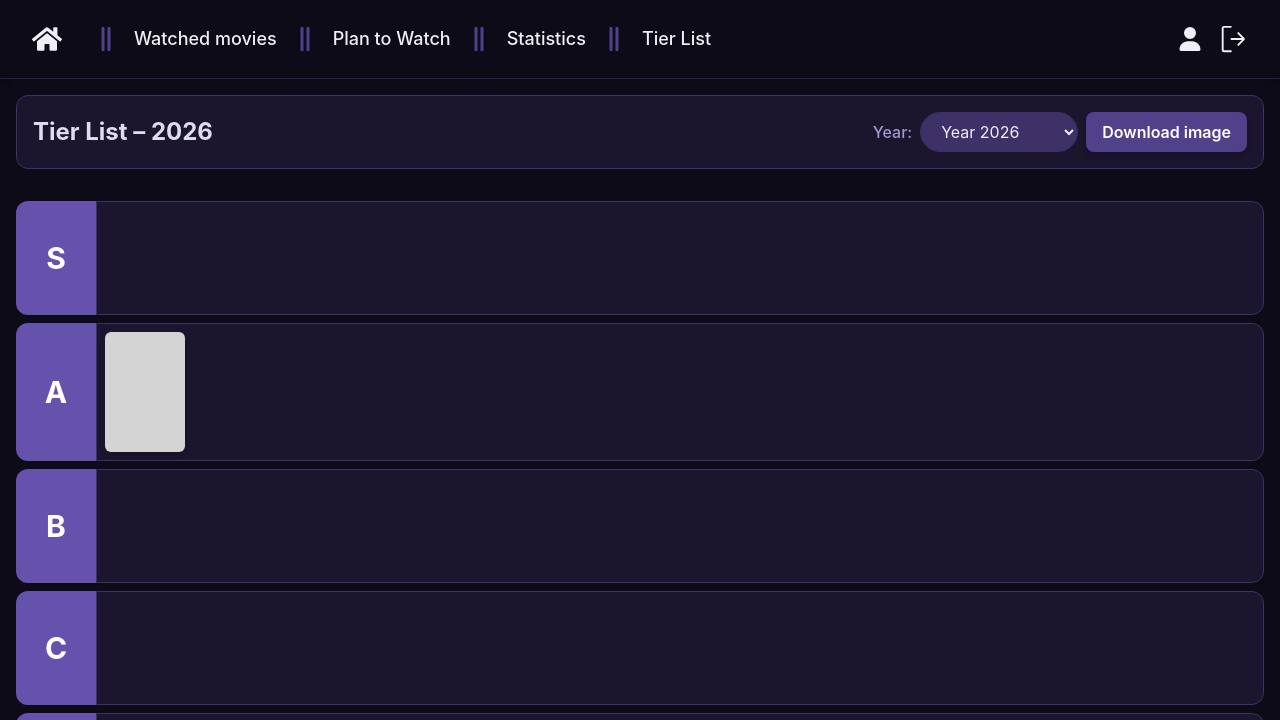
TierList › shows the movies of every year under an "All years" title
Select "Year All years" in the dropdown at [999, 132], box [921,113,1077,151]
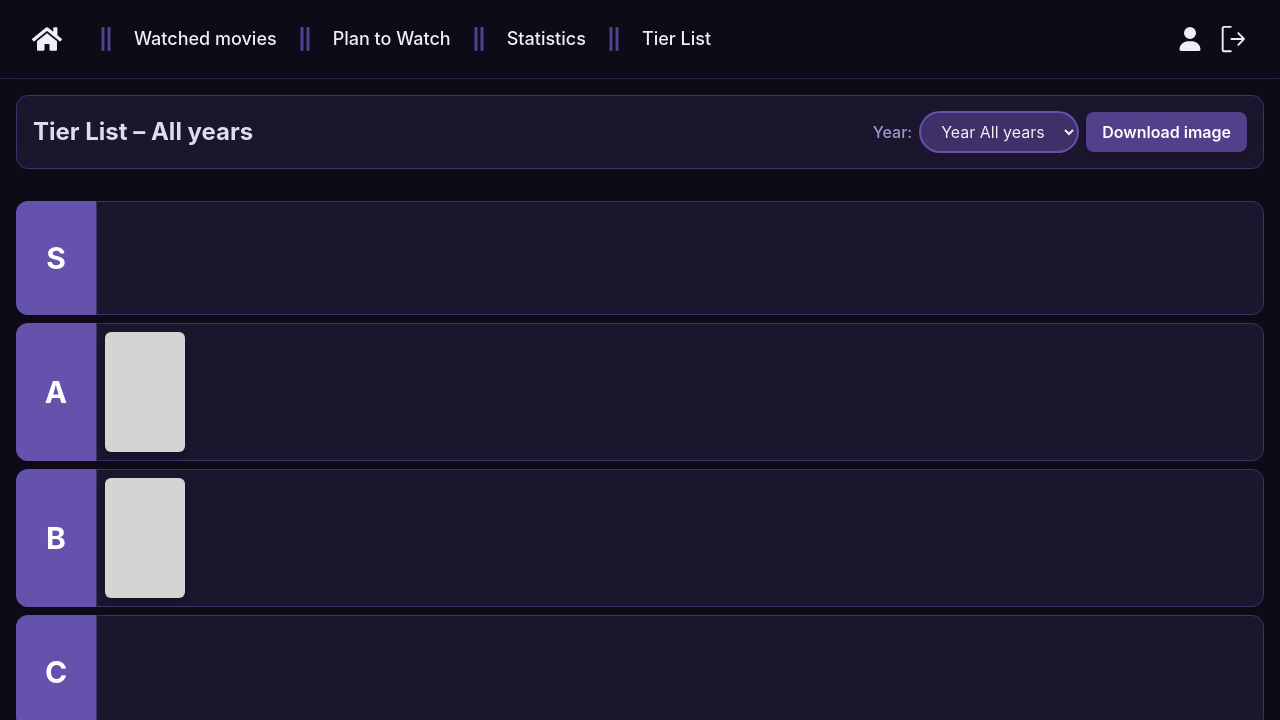
Check: the heading "Tier List – All years" is shown, box [33,116,253,148]
